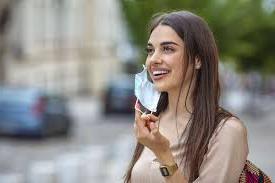mask_weared_incorrect: (138, 39, 178, 97)
